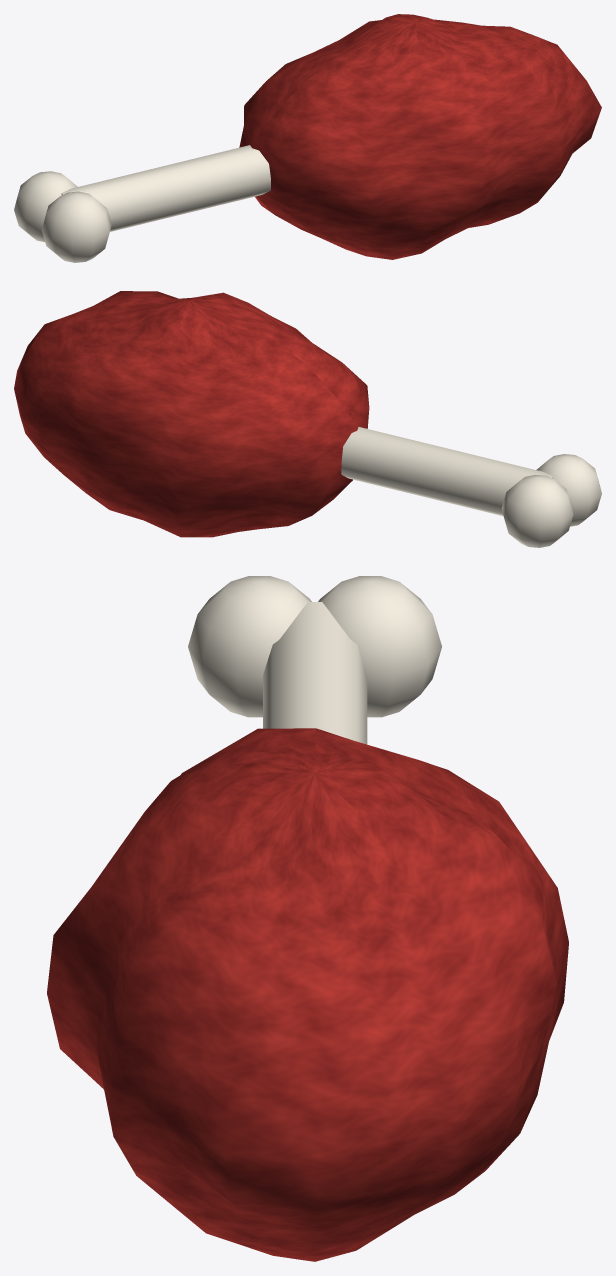
The model's file is SM_MeatRaw.fbx.
3 views of the same model, one above another, from view 1: azimuth 30°, elevation 25°; view 2: azimuth 150°, elevation 25°; view 3: azimuth 270°, elevation 25° (orthographic). The views are drawn at different scales.
Parts seen in each view (by area): view 1: SM_MeatRaw; view 2: SM_MeatRaw; view 3: SM_MeatRaw.
Boxes of the visible parts, <box> form: SM_MeatRaw: <box>14,14,601,262</box>; SM_MeatRaw: <box>14,291,601,547</box>; SM_MeatRaw: <box>47,576,568,1261</box>.
Size of the model in its own units: 0.3903 by 0.1422 by 0.1602.
